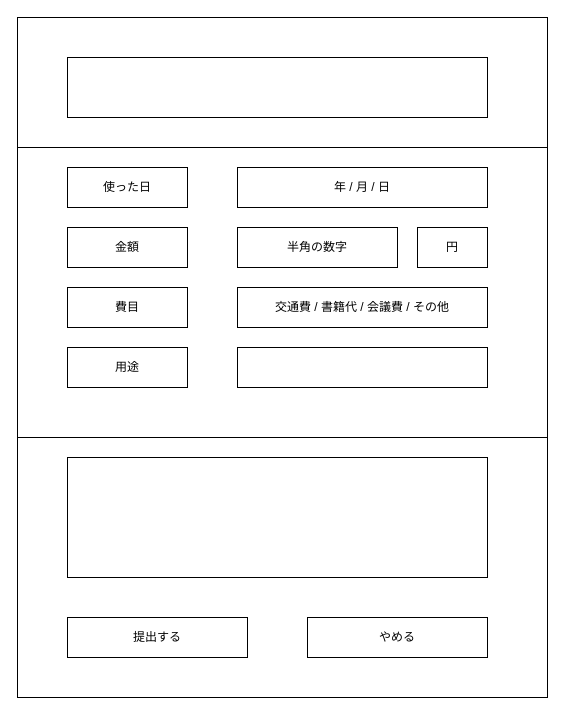
Image size: 565x715. Some labels were removed from this diagram. The centre of each missing label's shape, as x and y in pixels:
"差し戻しの理由 (差し戻された申請を書き直す時だけ表示する) 費目が会議費に見えません。交通費として出し直してくだし。" goes at (277,517).
"経費を申請する" goes at (277,87).
